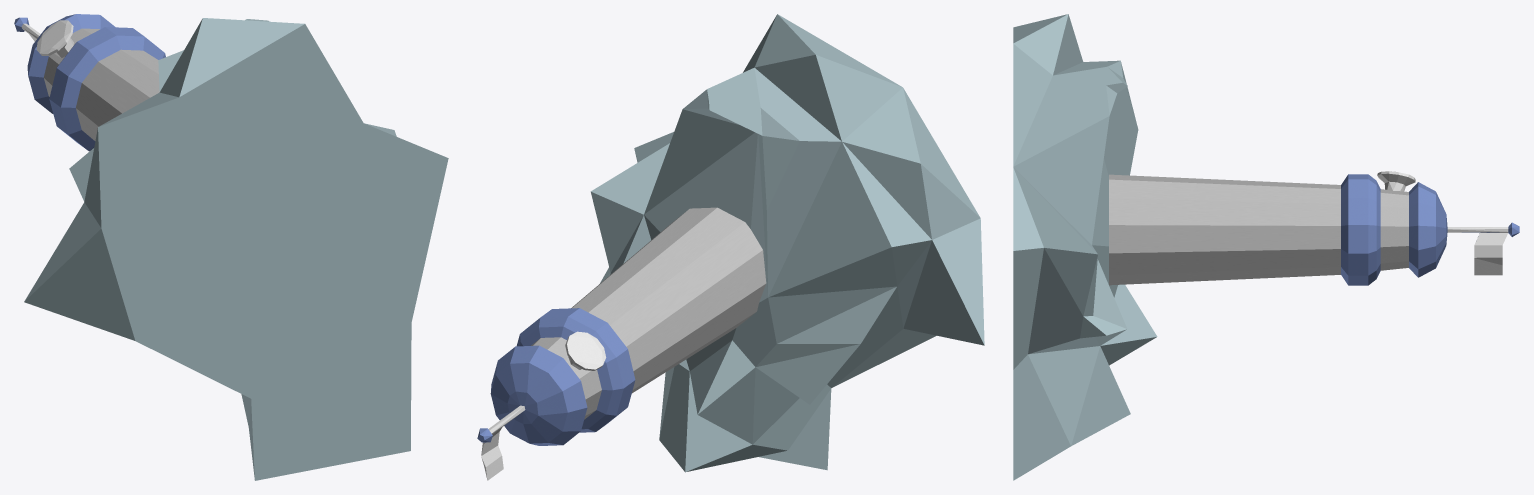
The model's file is ice_symbol_icelighthouse.FBX.
3 views of the same model, side by side, from view 1: azimuth 30°, elevation 25°; view 2: azimuth 150°, elevation 25°; view 3: azimuth 270°, elevation 25° (orthographic). The views are drawn at different scales.
Parts seen in each view (by area): view 1: statue_6; view 2: statue_6; view 3: statue_6.
Part boxes in pixels (x1,y1,x2,y2): statue_6: (14, 14, 448, 480); statue_6: (477, 14, 984, 480); statue_6: (1013, 14, 1519, 480).
Size of the model in its own units: 210 by 234 by 274.
